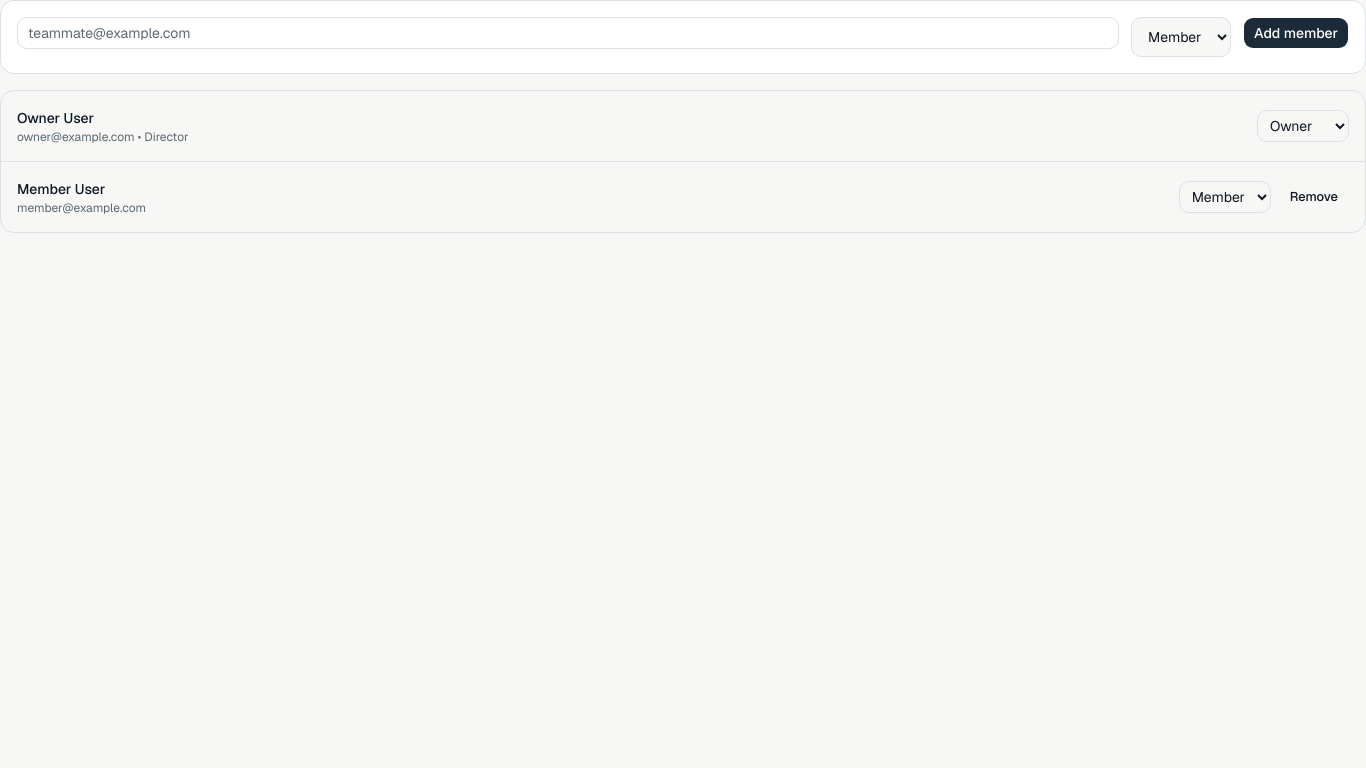
TeamTable › opens a teammate profile editor on click and saves through updateProfileAction
This screenshot has width=1366, height=768.
Click the button "Member User member@example.com" at (61, 189), box [17,178,1163,216]
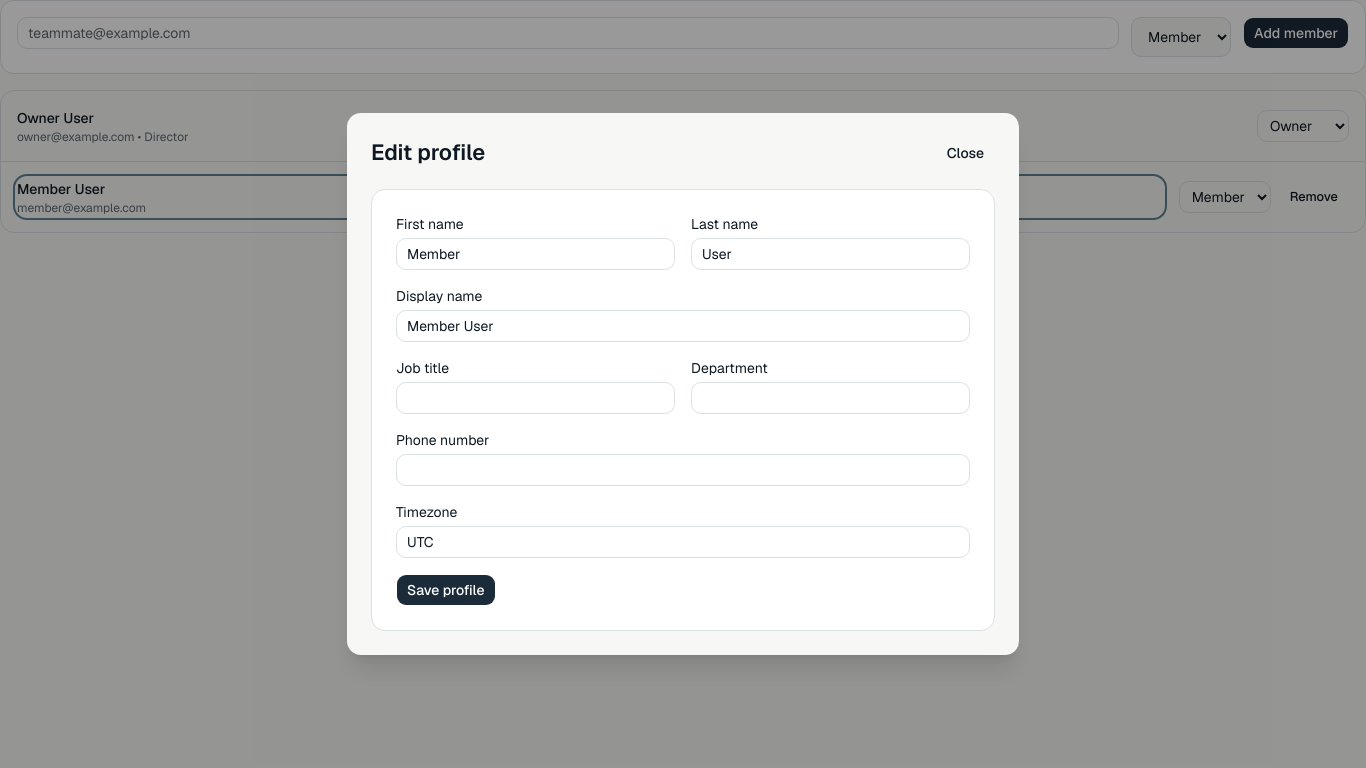
Expected: the field labelled "Job title" is shown
Type "Engineer" into the field labelled "Job title" at (536, 398), box [396,382,675,414]
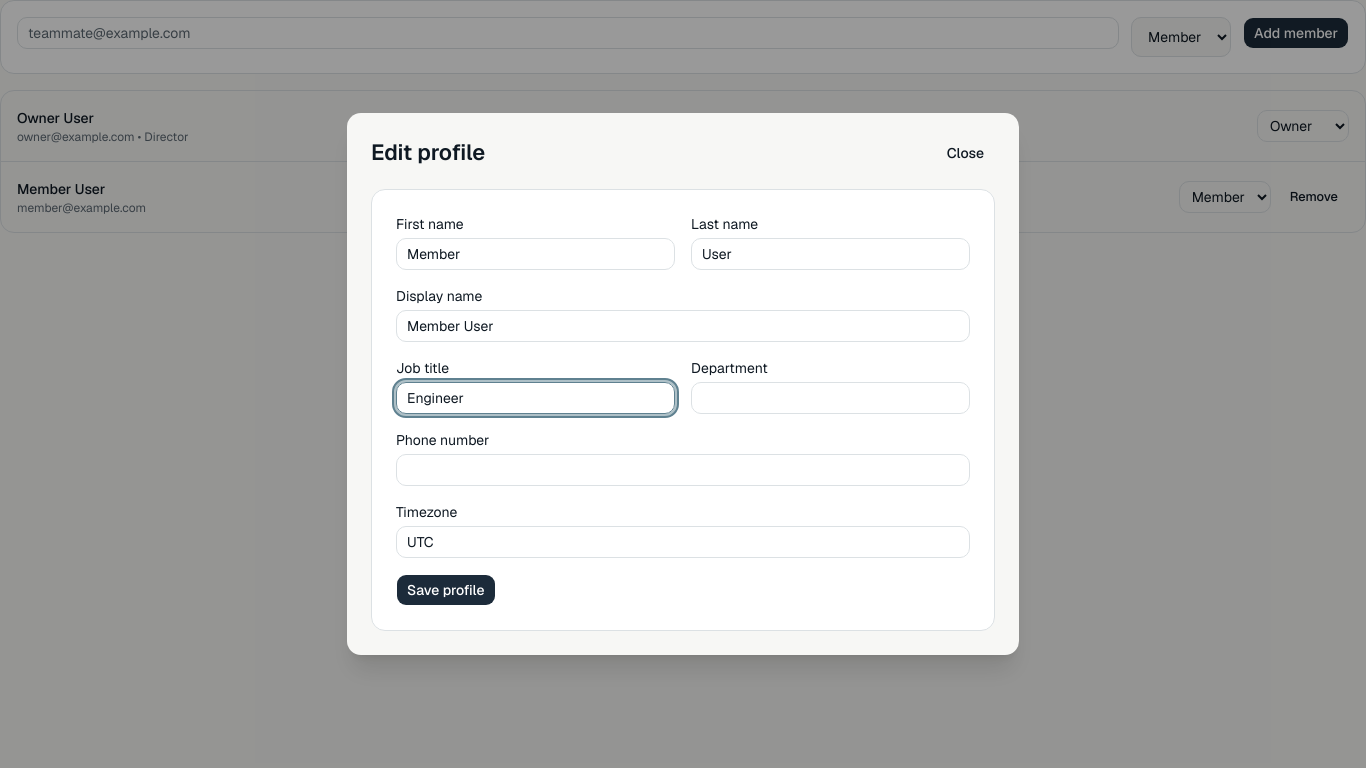
Click the button "Save profile" at (446, 590), box [396,574,496,606]
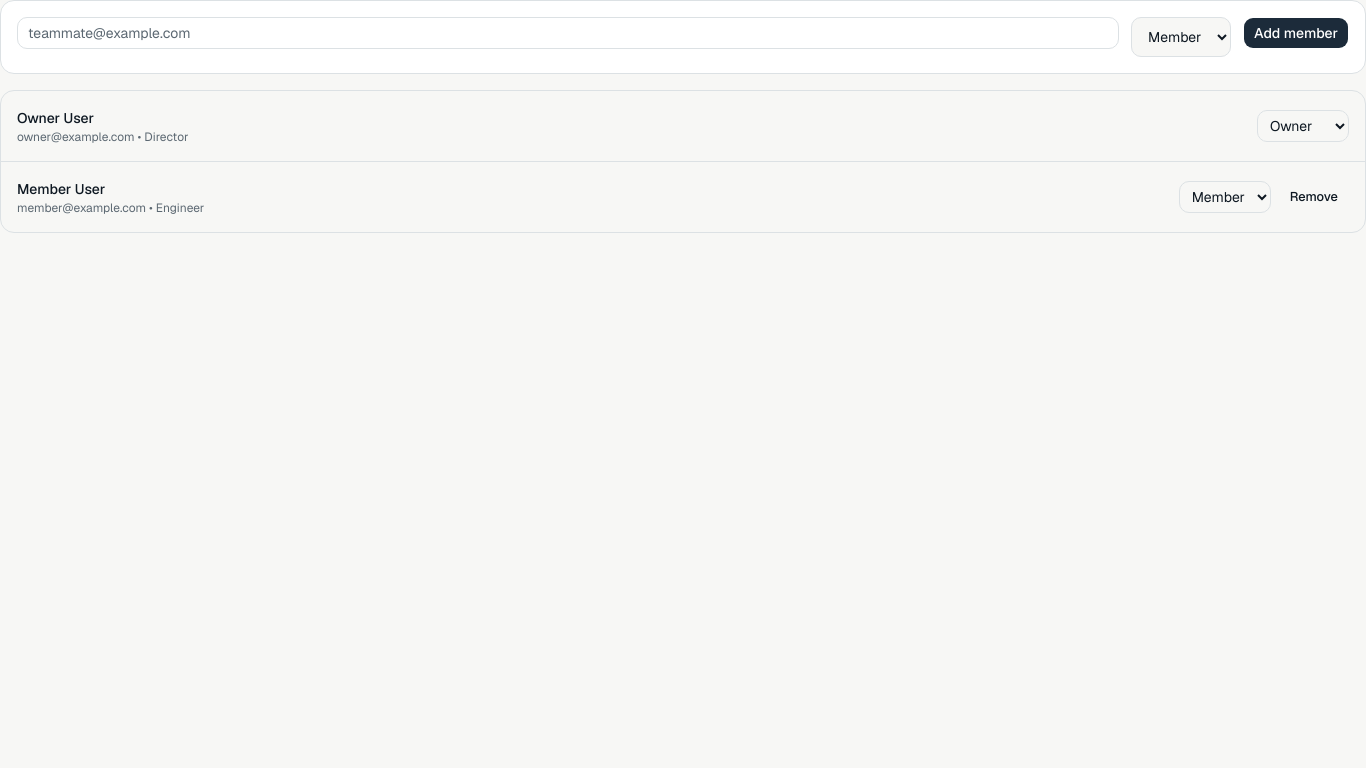
Expected: the dialog is gone
Expected: the text "member@example.com • Engineer" is shown, [17,200,204,216]
